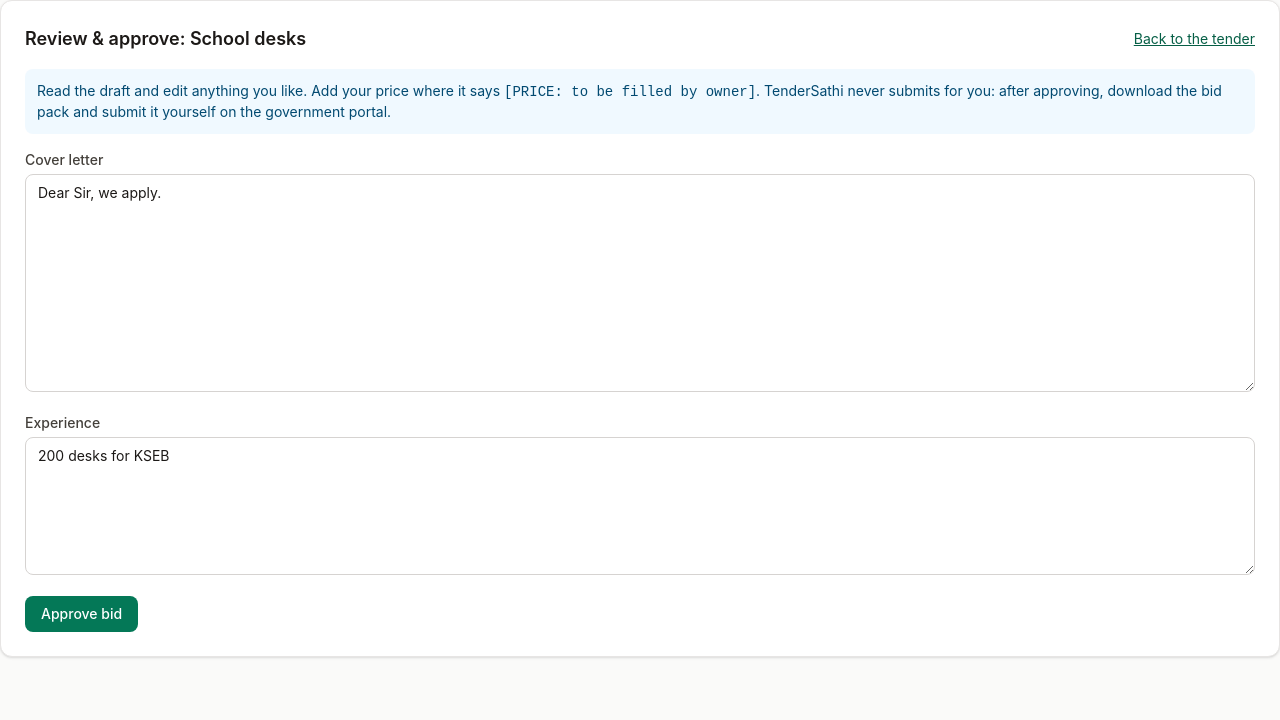
Test: shows the server's message when approval is refused
Clear the text box labelled "Cover letter": (640, 283) [25,174,1255,392]
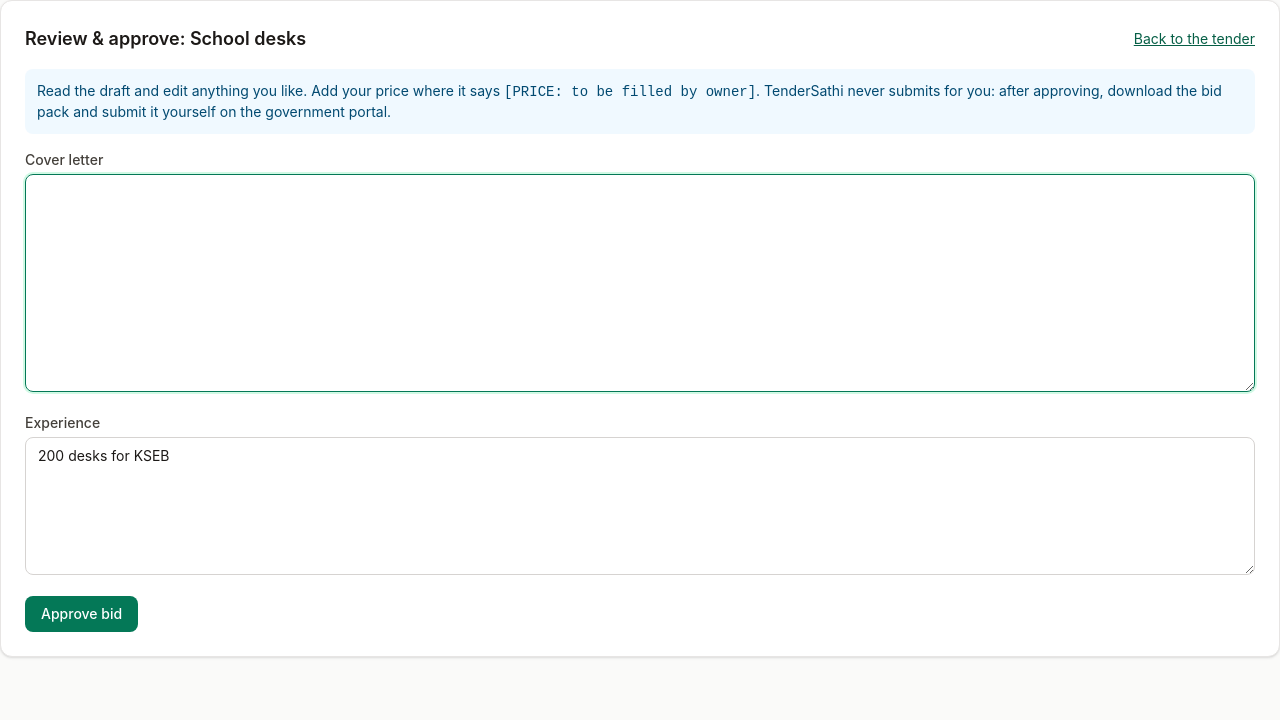
Click the button "Approve bid": (82, 614) [25,596,138,632]
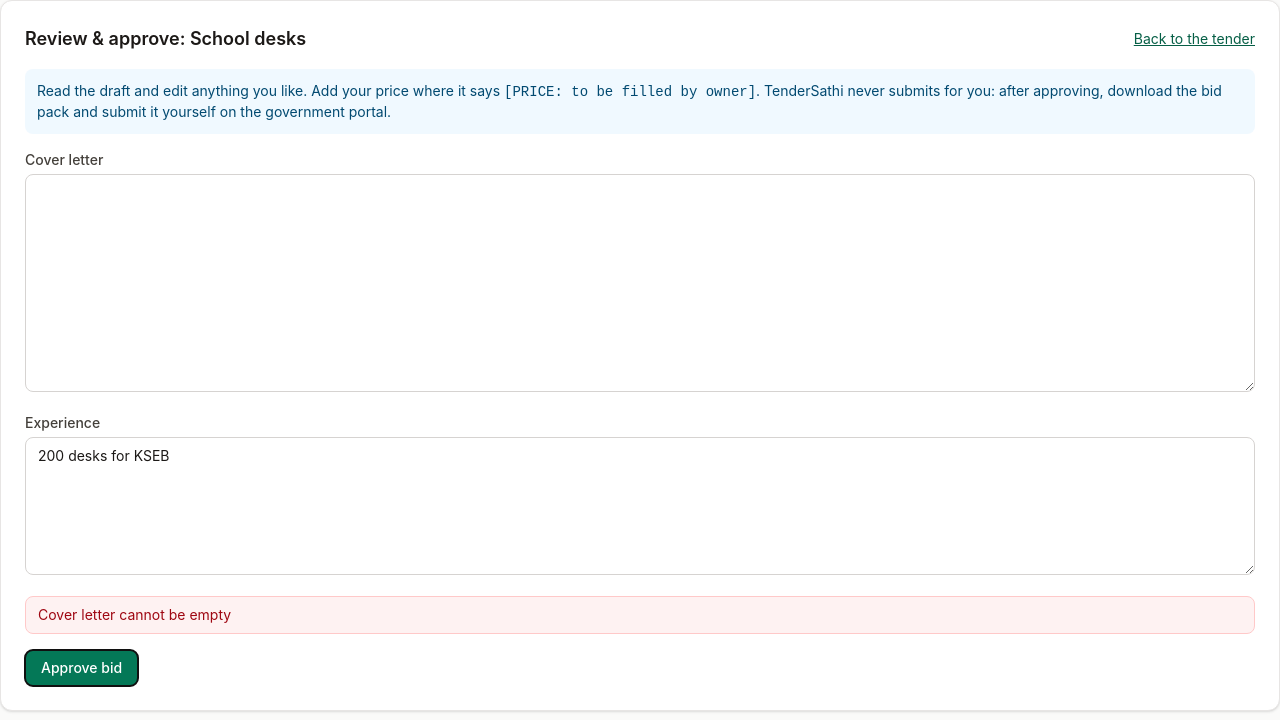
Check: the message reads "Cover letter cannot be empty", box [38,606,231,623]
